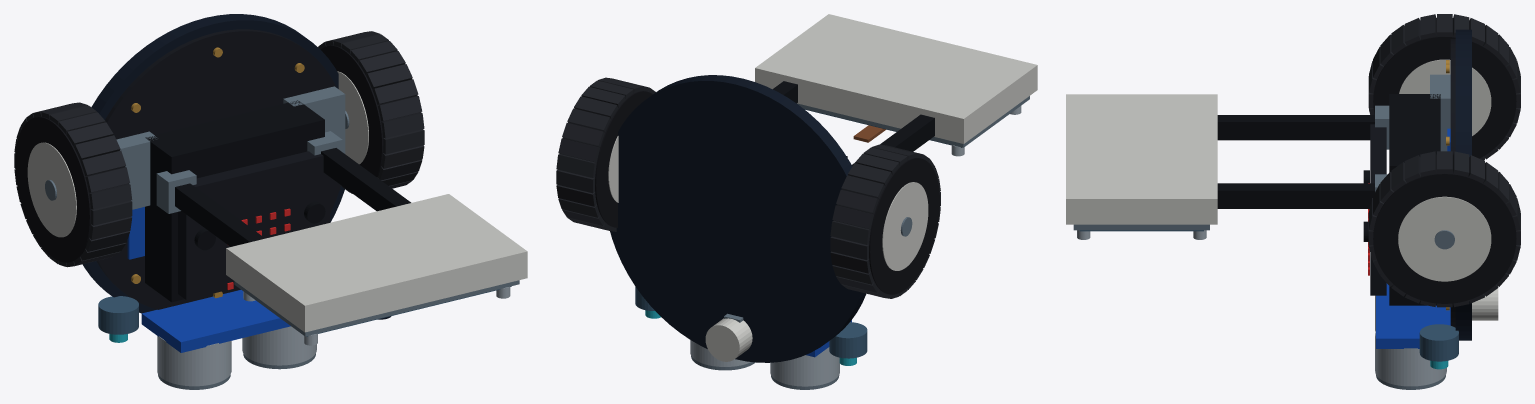
File: Tinybit_Pro_conceptual.obj
3 renders of one model, left to right at view 1: azimuth 30°, elevation 25°; view 2: azimuth 150°, elevation 25°; view 3: azimuth 270°, elevation 25°, orthographic. The views are drawn at different scales.
Visible parts, largest first — view 1: 60_Carcasa_posterior_camara, 02_Placa_circular_superior, 40_Modulo_electronica, 41_Placa_microbit, 01_Chasis_circular_PCB, 30_Placa_ultrasonico_azul, 10_Rueda_caucho_-1, 11_Rin_blanco_-1, 31_Sensor_cilindro_-1, 50_Soporte_vertical_-1, 50_Soporte_vertical_1, 10_Rueda_caucho_1 (+27 smaller); view 2: 01_Chasis_circular_PCB, 60_Carcasa_posterior_camara, 10_Rueda_caucho_-1, 11_Rin_blanco_-1, 10_Rueda_caucho_1, 31_Sensor_cilindro_-1, 20_Rueda_loca_frontal, 50_Soporte_vertical_-1, 22_LED_frontal_-1, 61_Placa_frontal_camara, 13_Taco_neumatico_1_13, 13_Taco_neumatico_-1_13 (+18 smaller); view 3: 60_Carcasa_posterior_camara, 10_Rueda_caucho_1, 11_Rin_blanco_1, 10_Rueda_caucho_-1, 50_Soporte_vertical_1, 50_Soporte_vertical_-1, 40_Modulo_electronica, 30_Placa_ultrasonico_azul, 01_Chasis_circular_PCB, 31_Sensor_cilindro_1, 11_Rin_blanco_-1, 22_LED_frontal_1 (+6 smaller).
Part boxes in pixels (x1,y1,x2,y2): 60_Carcasa_posterior_camara: (226,194,527,332); 02_Placa_circular_superior: (96,29,340,309); 40_Modulo_electronica: (145,100,324,302); 41_Placa_microbit: (178,151,329,299); 01_Chasis_circular_PCB: (82,14,344,313); 30_Placa_ultrasonico_azul: (141,290,290,352); 10_Rueda_caucho_-1: (15,116,129,262); 11_Rin_blanco_-1: (27,142,76,237); 31_Sensor_cilindro_-1: (157,336,231,386); 50_Soporte_vertical_-1: (175,183,265,246); 50_Soporte_vertical_1: (321,148,411,211); 10_Rueda_caucho_1: (320,45,421,177); 01_Chasis_circular_PCB: (610,75,866,362); 60_Carcasa_posterior_camara: (755,14,1037,143); 10_Rueda_caucho_-1: (833,158,939,294); 11_Rin_blanco_-1: (882,182,928,270); 10_Rueda_caucho_1: (559,91,652,227); 31_Sensor_cilindro_-1: (770,347,839,386); 20_Rueda_loca_frontal: (705,318,752,361); 50_Soporte_vertical_-1: (852,114,934,165); 22_LED_frontal_-1: (829,322,867,358); 61_Placa_frontal_camara: (797,96,1029,147); 13_Taco_neumatico_1_13: (556,154,596,177); 13_Taco_neumatico_-1_13: (830,220,870,244); 60_Carcasa_posterior_camara: (1066,94,1217,224); 10_Rueda_caucho_1: (1373,155,1516,303); 11_Rin_blanco_1: (1398,196,1491,281); 10_Rueda_caucho_-1: (1373,18,1516,158); 50_Soporte_vertical_1: (1217,183,1374,208); 50_Soporte_vertical_-1: (1217,115,1374,140); 40_Modulo_electronica: (1389,94,1440,305); 30_Placa_ultrasonico_azul: (1376,283,1450,348); 01_Chasis_circular_PCB: (1455,29,1471,340); 31_Sensor_cilindro_1: (1375,330,1446,386); 11_Rin_blanco_-1: (1399,59,1491,135); 22_LED_frontal_1: (1419,324,1458,361).
Size of the model in its own units: 2.78 by 2.54 by 3.36.
